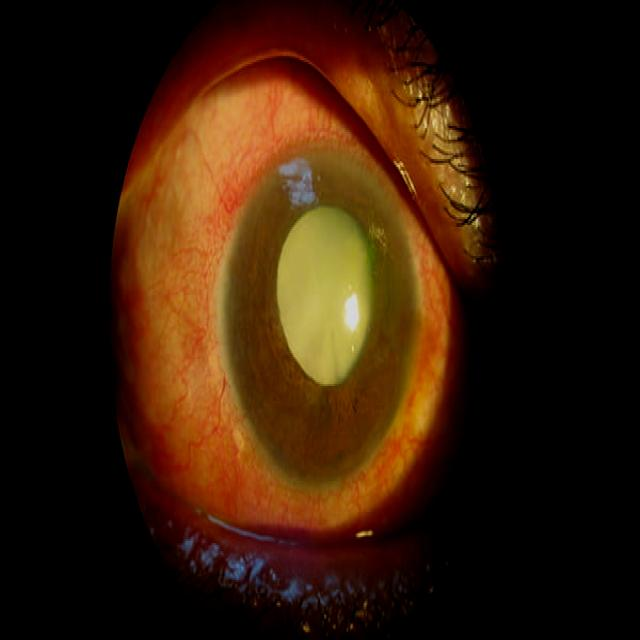Cataract: (209, 122, 452, 503)
